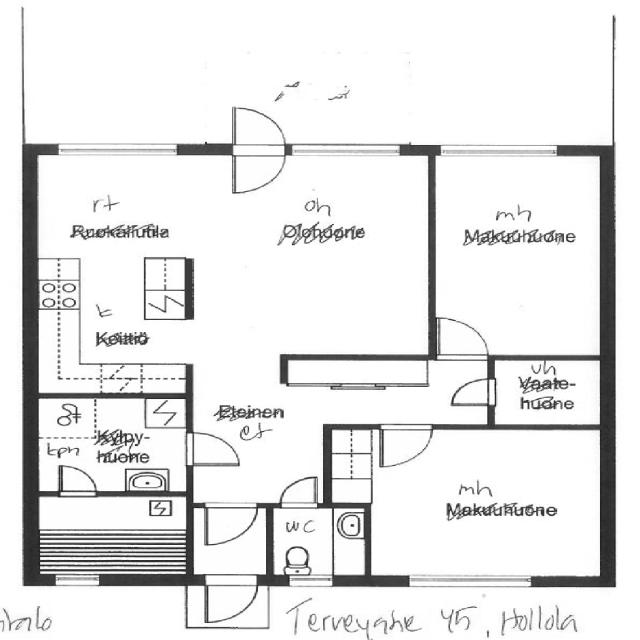door: (31, 148, 190, 394), (223, 104, 288, 196), (426, 311, 498, 365), (197, 573, 262, 627), (195, 502, 264, 548), (372, 421, 436, 470), (180, 428, 252, 470), (440, 374, 505, 412), (49, 460, 102, 500), (272, 472, 325, 510)
window: (435, 138, 567, 163), (49, 136, 181, 160), (284, 138, 410, 162), (400, 571, 536, 589), (46, 572, 108, 589), (282, 574, 342, 590)
zone: (185, 150, 435, 368), (333, 424, 608, 580), (33, 150, 188, 392), (430, 151, 606, 358), (32, 395, 192, 494), (27, 489, 193, 584), (492, 357, 605, 427), (270, 506, 366, 580)
